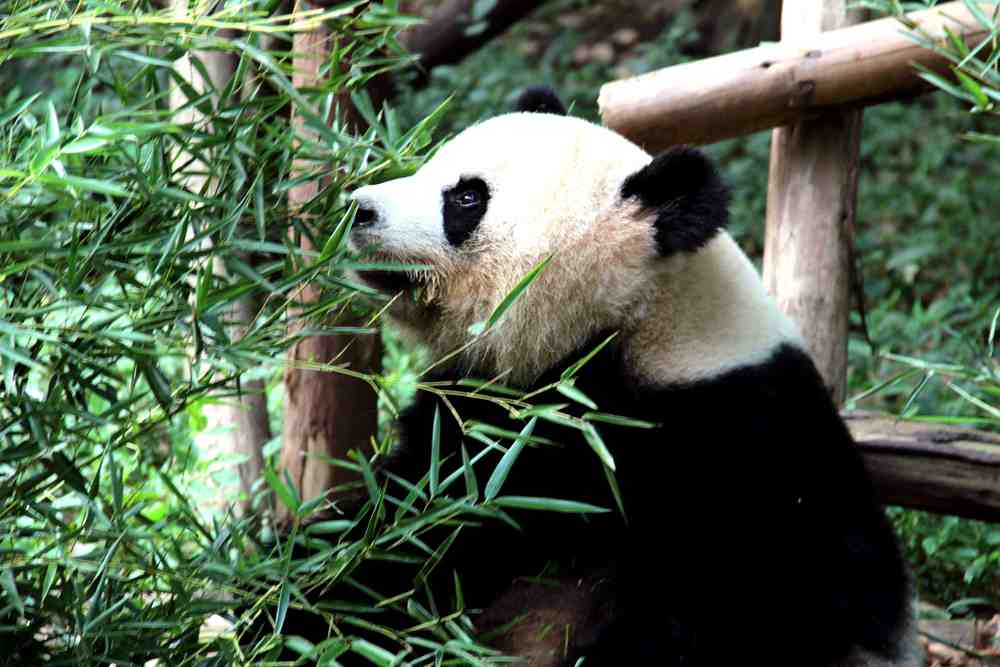panda: (321, 85, 917, 663)
